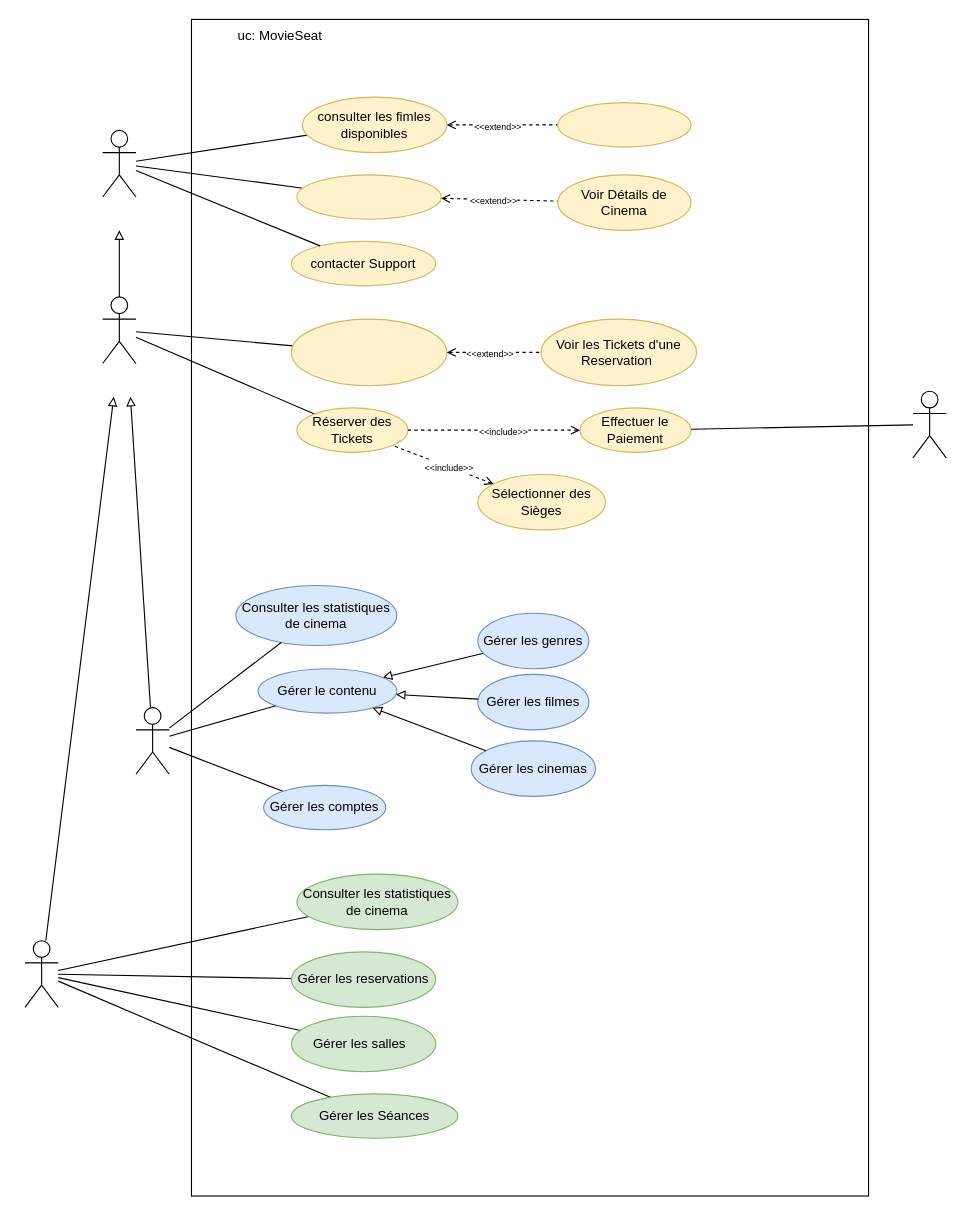
Some shapes in this 975 by 1215 pixel diagram are drawn without their labels. Here are the shapes that lost their labels. From the top down, the centre of each, then its label:
At point 624,124: "Voir Détails du Film".
At point 119,163: "visiteur".
At point 368,196: "consulter les cinemas".
At point 119,330: "user".
At point 368,352: "Voir l'Historique des Réservations".
At point 929,424: "Payment Gateway".
At point 152,740: "admin".
At point 41,973: "gérant Cinéma".
